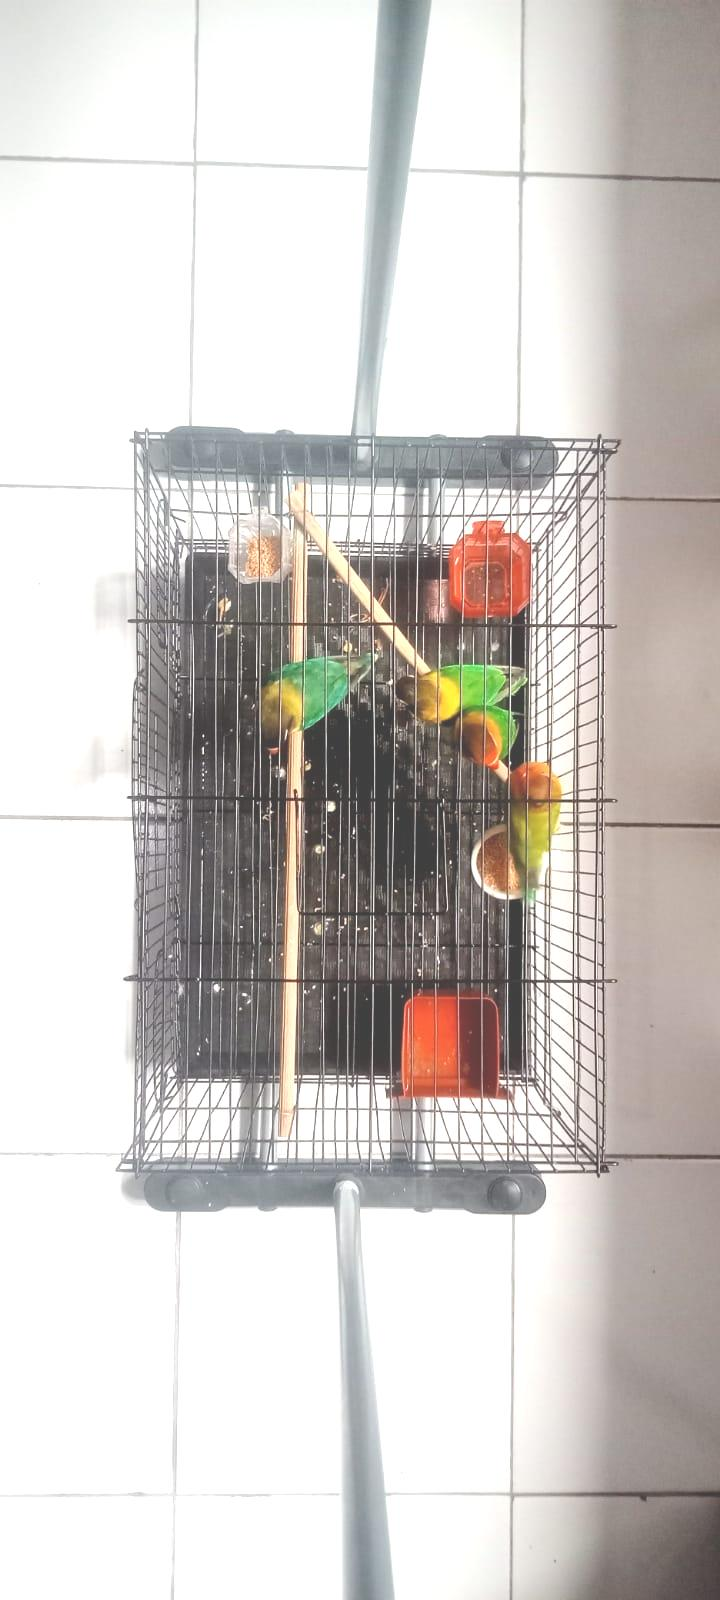LoveBird: (256, 653, 382, 756), (504, 762, 562, 905), (394, 664, 527, 724), (455, 705, 520, 770)
